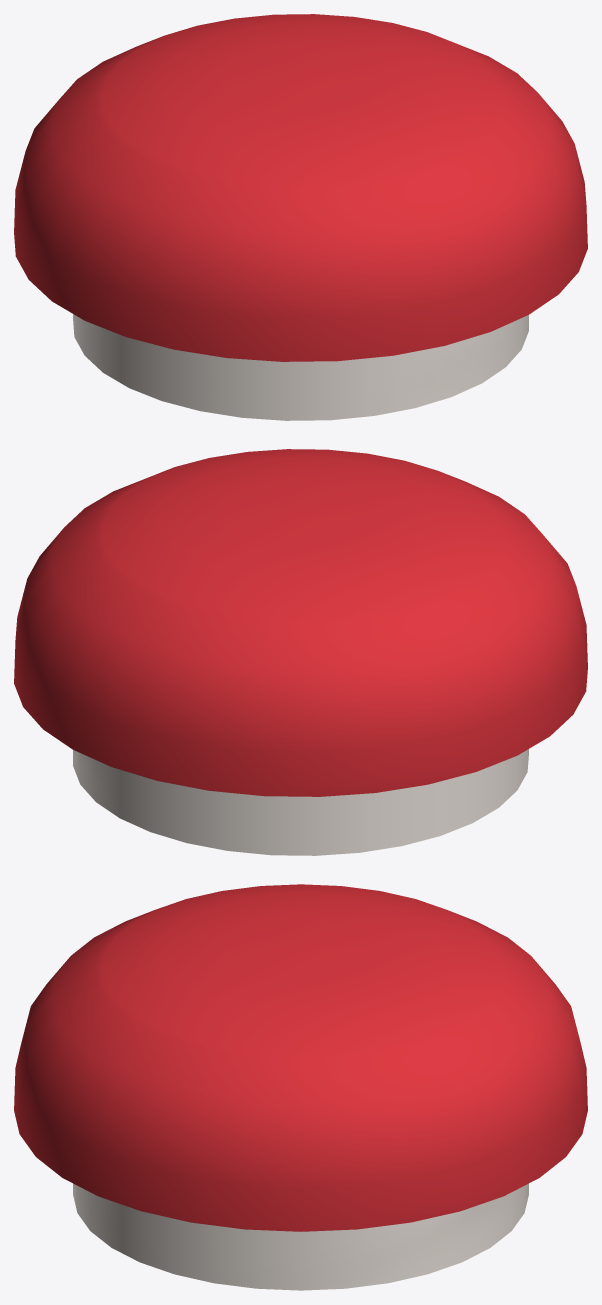
Rendered from button.fbx.
3 renders of one model, top to bottom at view 1: azimuth 30°, elevation 25°; view 2: azimuth 150°, elevation 25°; view 3: azimuth 270°, elevation 25°, orthographic.
Parts seen in each view (by area): view 1: Cylinder; view 2: Cylinder; view 3: Cylinder.
Boxes of the visible parts, x1=… form: Cylinder: x1=14, y1=14, x2=587, y2=420; Cylinder: x1=14, y1=449, x2=587, y2=855; Cylinder: x1=14, y1=884, x2=587, y2=1290.
Size of the model in its own units: 96.69 by 46.1 by 96.69.
